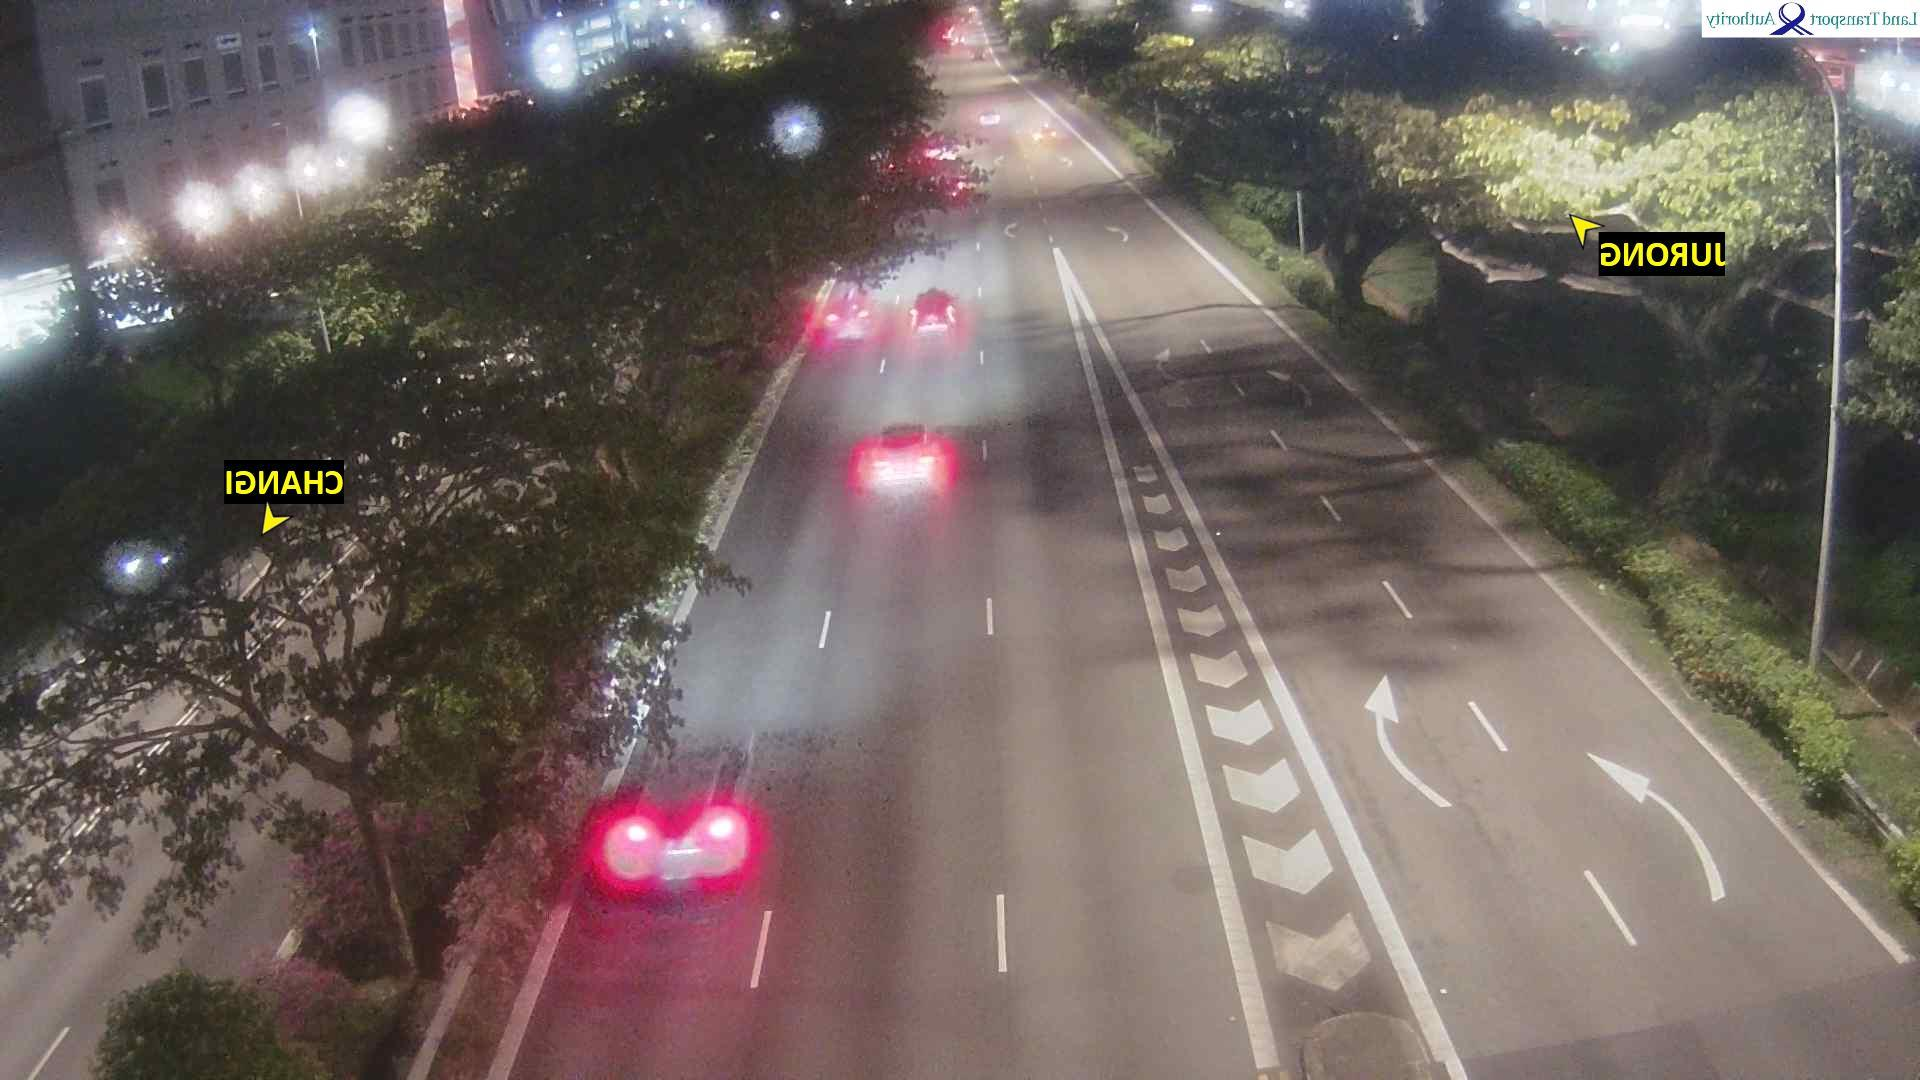cars: (848, 419, 960, 498), (99, 530, 185, 597), (808, 276, 876, 348), (910, 287, 960, 336), (920, 125, 960, 162), (1033, 120, 1060, 144), (980, 108, 1002, 127), (969, 46, 988, 61), (953, 33, 967, 45)
trucks: (582, 727, 762, 903)
